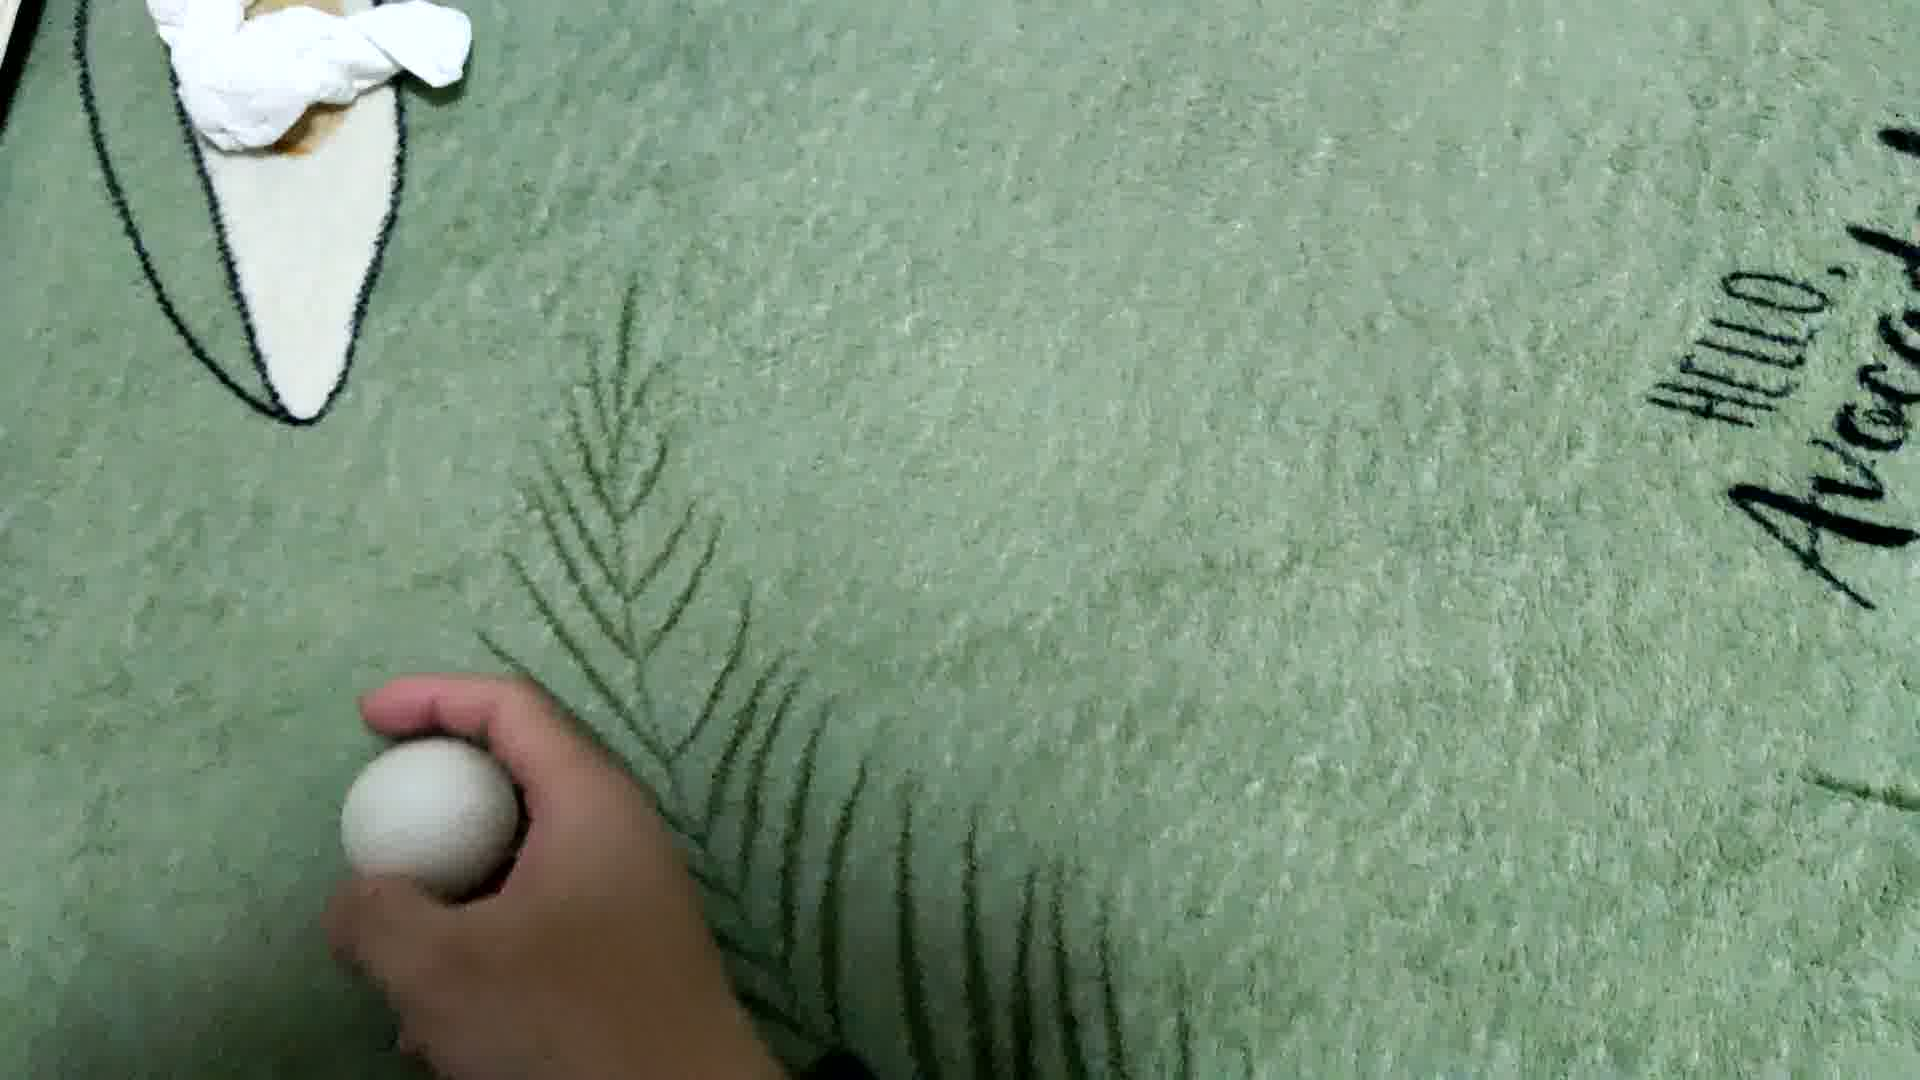Ball: (343, 735, 525, 895)
